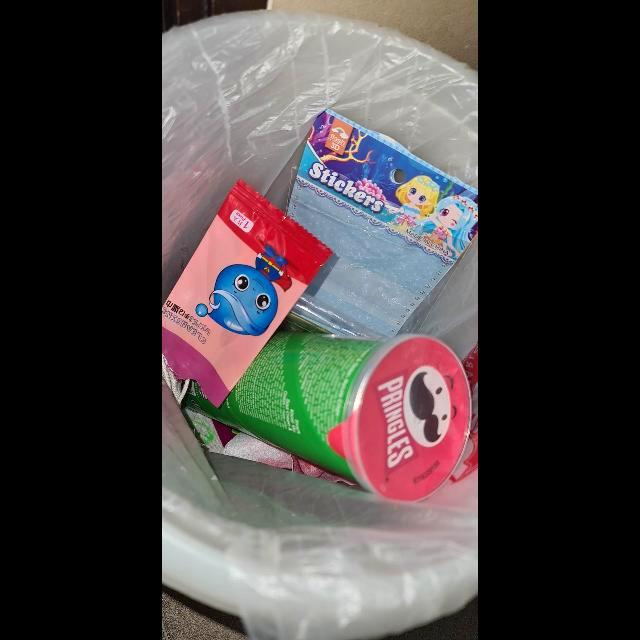cardboard: (185, 332, 472, 503), (287, 110, 479, 341)
plastic_sachet: (162, 180, 334, 409)
